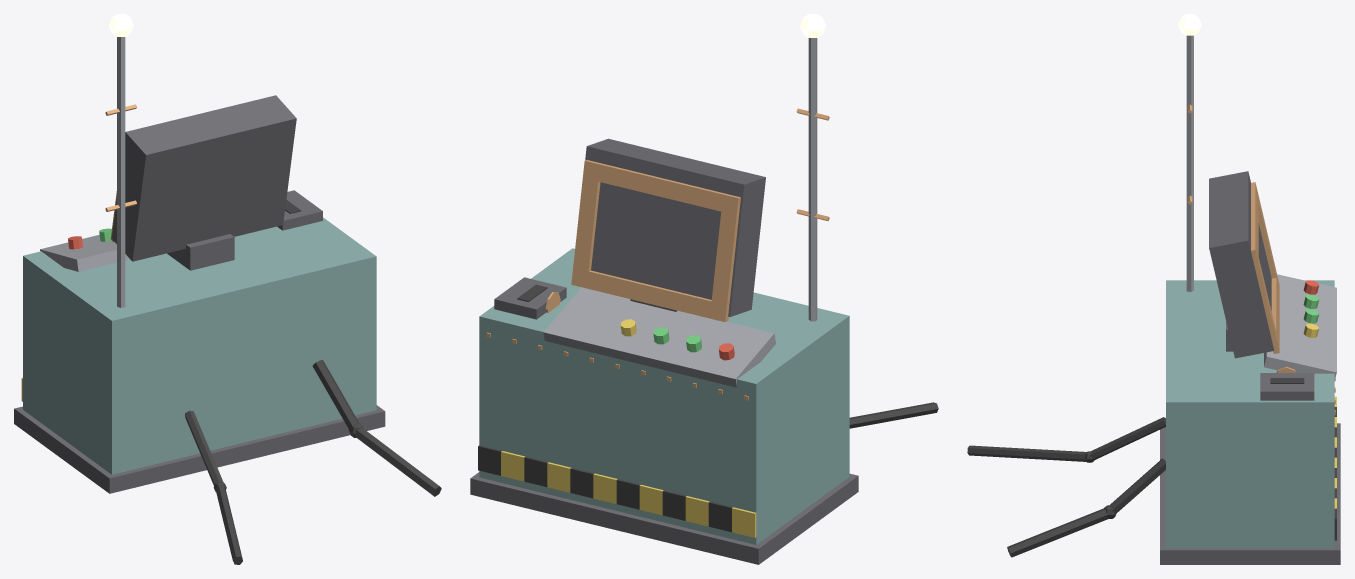
File: mission_terminal.glb
The picture shows the model from 3 angles, left to right: view 1: azimuth 30°, elevation 25°; view 2: azimuth 150°, elevation 25°; view 3: azimuth 270°, elevation 25°; orthographic projection. The views are drawn at different scales.
Parts seen in each view (by area): view 1: MissionTerminal; view 2: MissionTerminal; view 3: MissionTerminal.
Boxes of the visible parts, x1=… form: MissionTerminal: x1=14, y1=14, x2=441, y2=564; MissionTerminal: x1=470, y1=14, x2=938, y2=564; MissionTerminal: x1=967, y1=14, x2=1340, y2=564.
Bounding box in the file's own units: 1.5 × 2.43 × 1.86.
